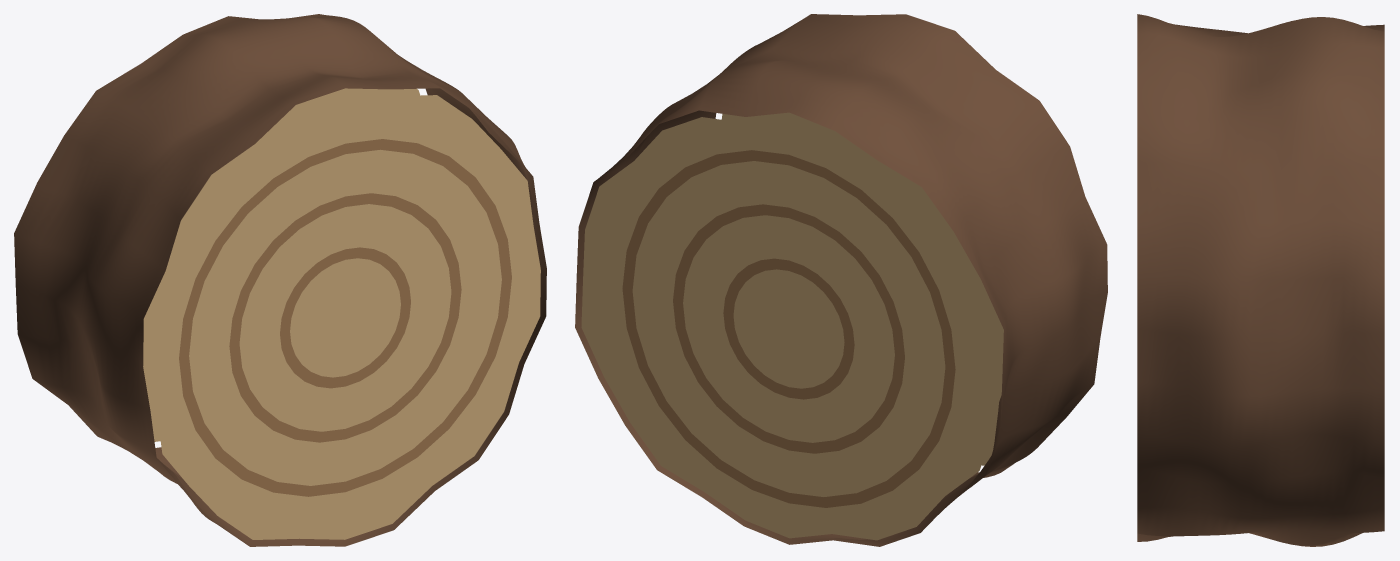
File: log_pole.glb
The picture shows the model from 3 angles, left to right: view 1: azimuth 30°, elevation 25°; view 2: azimuth 150°, elevation 25°; view 3: azimuth 270°, elevation 25°; orthographic projection. The views are drawn at different scales.
Parts seen in each view (by area): view 1: end-1, bark, ring-1_8, ring-1_5, ring-1_3, end1; view 2: end1, bark, ring1_8, ring1_5, ring1_3, end-1; view 3: bark.
Boxes of the visible parts, <box> form: end-1: <box>149,95,540,539</box>; bark: <box>14,14,546,546</box>; ring-1_8: <box>179,139,511,496</box>; ring-1_5: <box>229,193,461,442</box>; ring-1_3: <box>280,247,410,388</box>; end1: <box>143,88,420,441</box>; end1: <box>581,117,997,540</box>; bark: <box>575,14,1107,546</box>; ring1_8: <box>622,150,955,507</box>; ring1_5: <box>673,204,904,453</box>; ring1_3: <box>723,258,854,399</box>; end-1: <box>721,112,1003,465</box>; bark: <box>1137,14,1384,546</box>.
Size of the model in its own units: 2.19 by 2.18 by 1.01.
